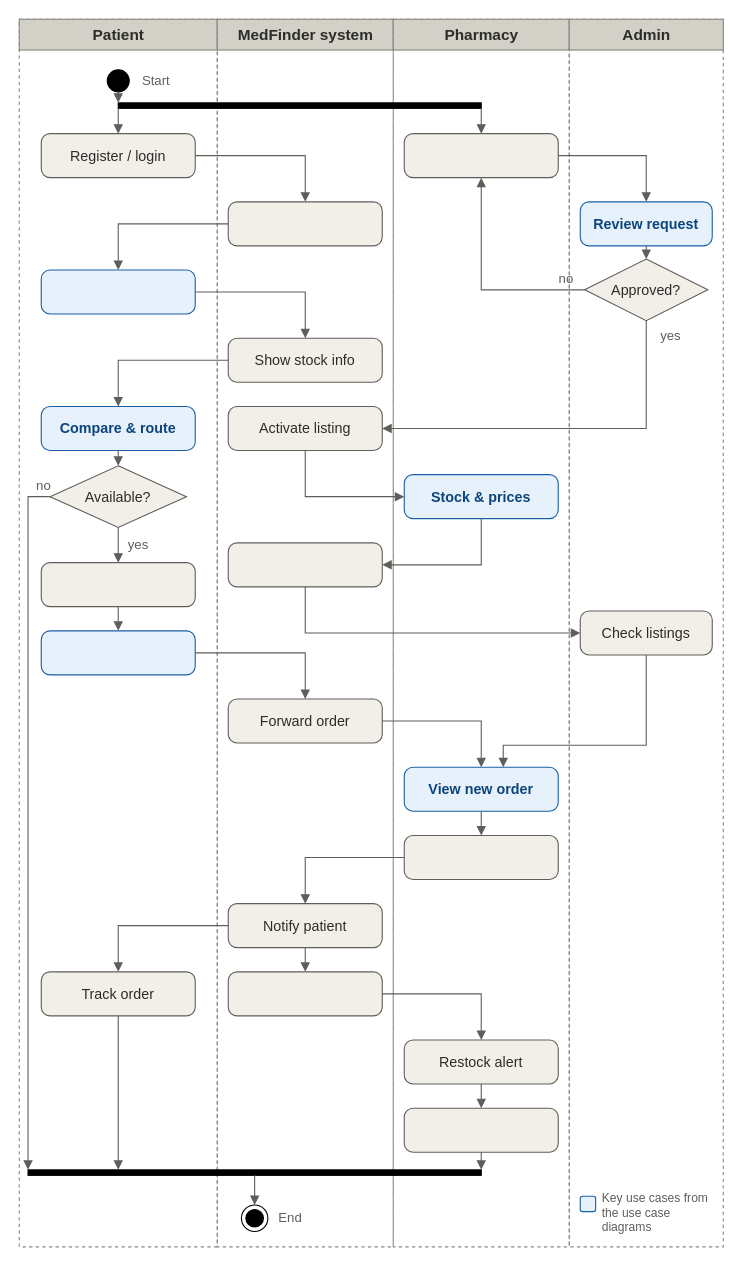
Some shapes in this 743 by 1266 pixel diagram are drawn without their labels. Each missing label, with the box of its shape:
Pharmacy sign-up: (403, 133, 558, 178)
Pickup / delivery: (40, 562, 195, 607)
Place order: (40, 630, 195, 675)
Publish stock: (227, 542, 382, 587)
Search medicine: (40, 269, 195, 314)
Send alerts: (227, 971, 382, 1016)
Subscription: (403, 1107, 558, 1152)
Update status: (403, 834, 558, 879)
Verify identity: (227, 201, 382, 246)
